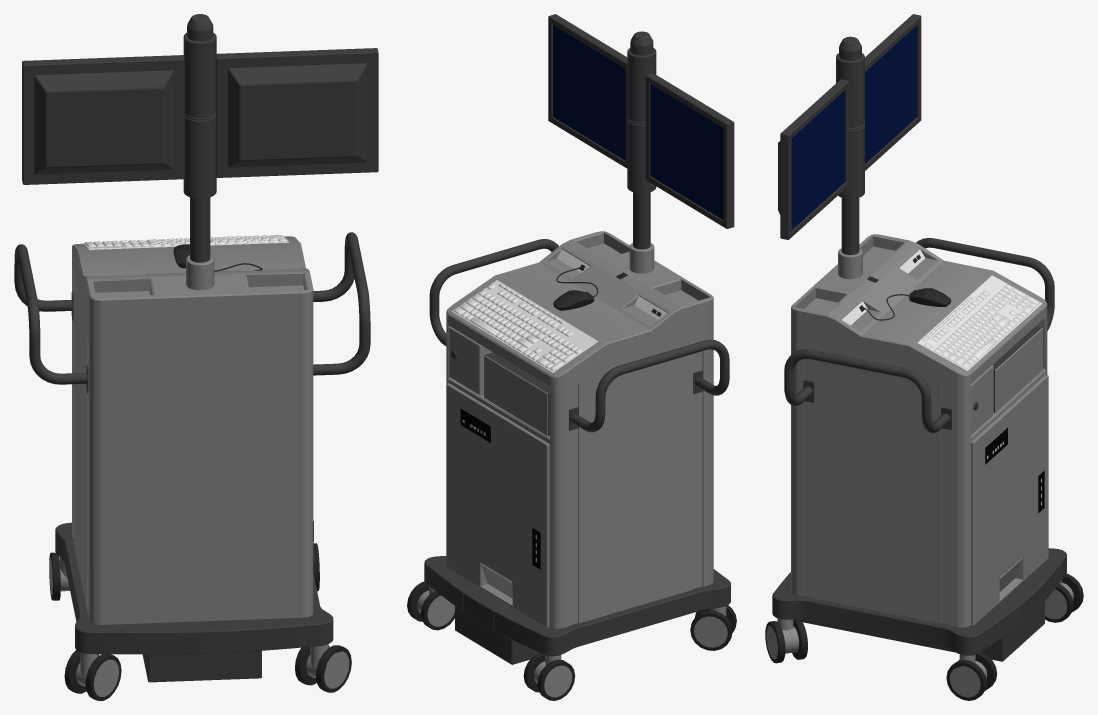
The model's file is Monitors.fbx.
The picture shows the model from 3 angles, left to right: view 1: azimuth 30°, elevation 25°; view 2: azimuth 150°, elevation 25°; view 3: azimuth 270°, elevation 25°; orthographic projection. The views are drawn at different scales.
Visible parts, largest first — view 1: Siemens Arcadis Varic Monitors; view 2: Siemens Arcadis Varic Monitors; view 3: Siemens Arcadis Varic Monitors.
Boxes of the visible parts, box(x1,y1,x2,y2) form: Siemens Arcadis Varic Monitors: box(14, 14, 378, 700); Siemens Arcadis Varic Monitors: box(407, 14, 736, 700); Siemens Arcadis Varic Monitors: box(765, 14, 1083, 700).
Bounding box in the file's own units: 87.19 × 163 × 80.77.
